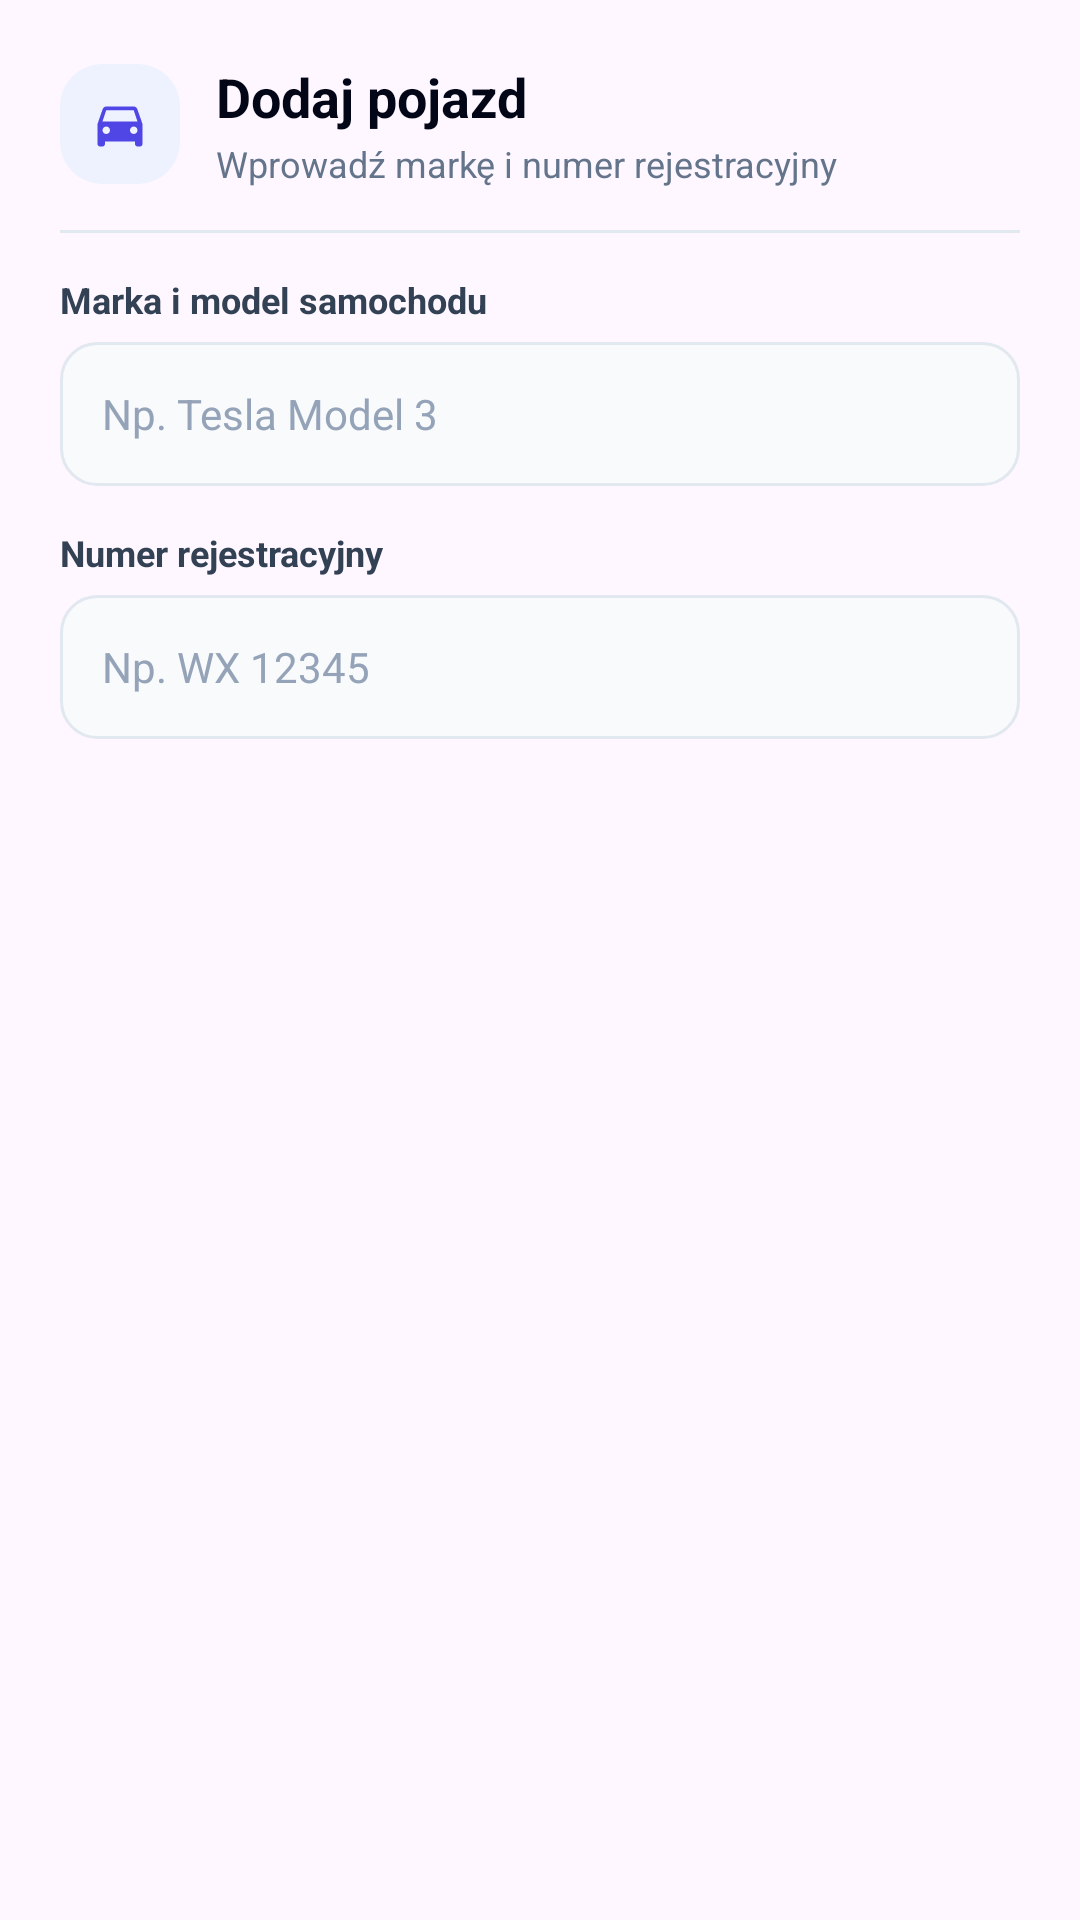

Icons on this 1080*1920 Android screen, each with its box as bbox=(x1, y1, x2, y2):
card vehicles: bbox=(97, 106, 143, 147)
